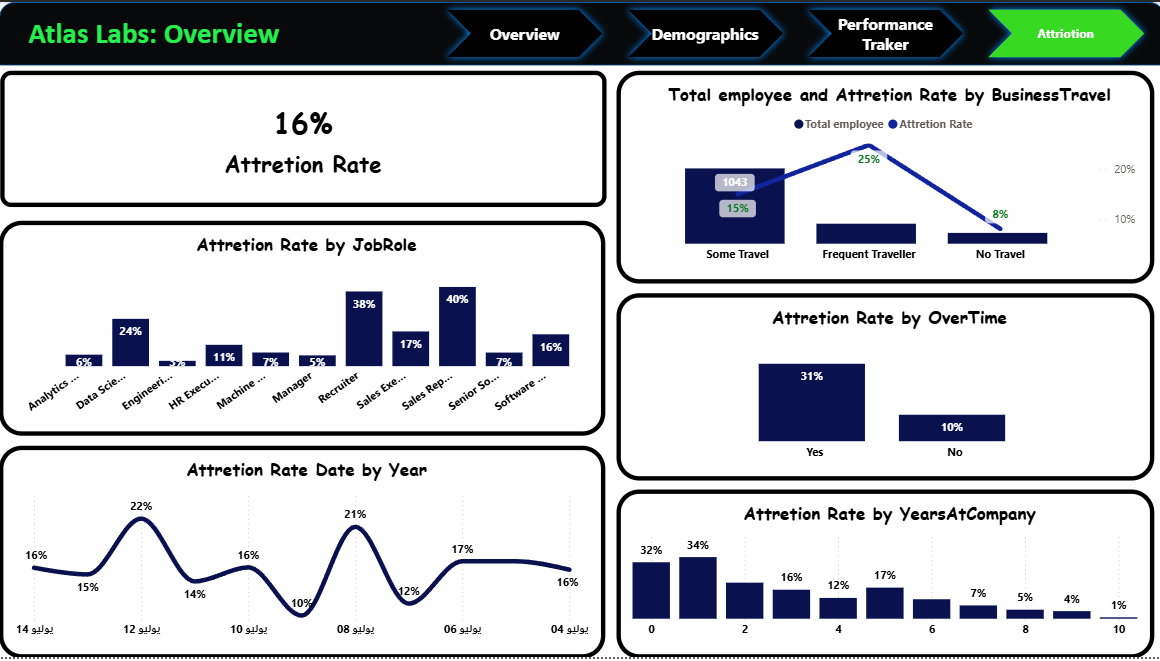

The page's visual inventory and layout, read from the dashboard file:
{"tool":"powerbi","page":{"name":"Attriotion","canvas":[1280,720],"ordinal":3},"visuals":[{"type":"shape","box":[0,0,1280.3,70],"z":0},{"type":"textbox","box":[27.4,9.6,343.1,53.5],"z":1000},{"type":"pageNavigator","box":[483,0,784.9,70],"z":2000},{"type":"card","fields":{"Values":["_Measures.Attretion Rate"]},"box":[1.4,75.5,665.5,149.6],"z":3000},{"type":"clusteredColumnChart","fields":{"Y":["_Measures.Attretion Rate"],"Category":["DimEmployee.Department Hierarchy.Department","DimEmployee.Department Hierarchy.JobRole"]},"box":[0,240.1,665.5,236],"z":4000},{"type":"lineChart","fields":{"Y":["_Measures.Attretion Rate Date"],"Category":["DimDate.Year"]},"box":[0,487.1,665.5,233.3],"z":5000},{"type":"lineClusteredColumnComboChart","fields":{"Y2":["_Measures.Attretion Rate"],"Y":["_Measures.Total employee"],"Category":["DimEmployee.BusinessTravel"]},"box":[677.9,75.5,590.1,233.3],"z":5001},{"type":"clusteredColumnChart","fields":{"Y":["_Measures.Attretion Rate"],"Category":["DimEmployee.OverTime"]},"box":[677.9,319.7,590.1,205.8],"z":5002},{"type":"clusteredColumnChart","fields":{"Y":["_Measures.Attretion Rate"],"Category":["DimEmployee.YearsAtCompany"]},"box":[677.9,535.2,590.1,185.2],"z":5003}]}

Visuals, with their boxes in screenshot pixels (x1, y1, x2, y2), scaled from the page's 1280x720 canvas onto the 1160x661 screenshot:
shape: locate(0, 0, 1159, 64)
textbox: locate(25, 9, 336, 58)
pageNavigator: locate(438, 0, 1149, 64)
card - _Measures.Attretion Rate: locate(1, 69, 604, 207)
clusteredColumnChart - _Measures.Attretion Rate x DimEmployee.Department Hierarchy.Department: locate(0, 220, 603, 437)
lineChart - _Measures.Attretion Rate Date x DimDate.Year: locate(0, 447, 603, 660)
lineClusteredColumnComboChart - _Measures.Attretion Rate x _Measures.Total employee: locate(614, 69, 1149, 283)
clusteredColumnChart - _Measures.Attretion Rate x DimEmployee.OverTime: locate(614, 294, 1149, 482)
clusteredColumnChart - _Measures.Attretion Rate x DimEmployee.YearsAtCompany: locate(614, 491, 1149, 660)
